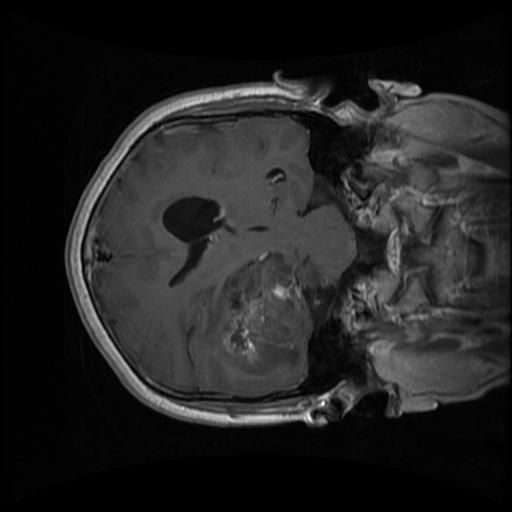glioma: (213, 252, 321, 377)
